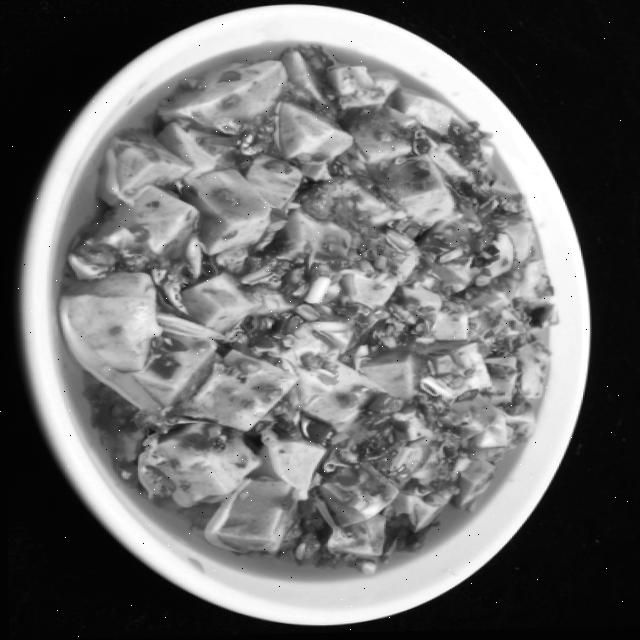豆腐料理: (20, 19, 587, 607)
